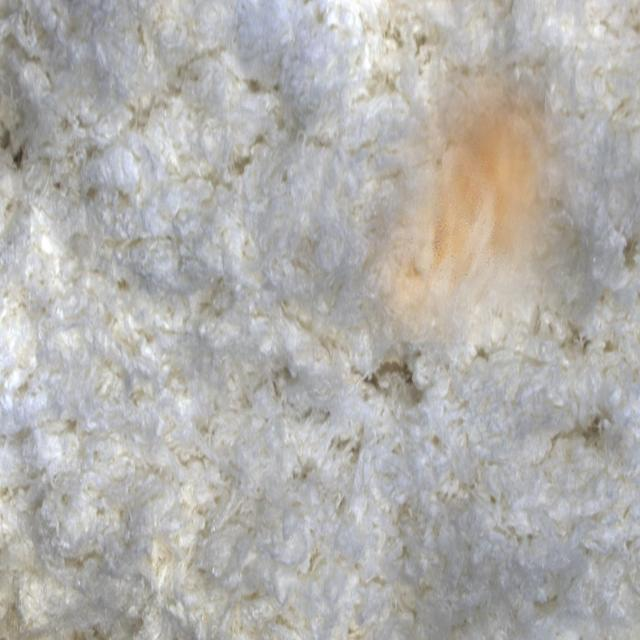dust: (351, 49, 592, 342)
